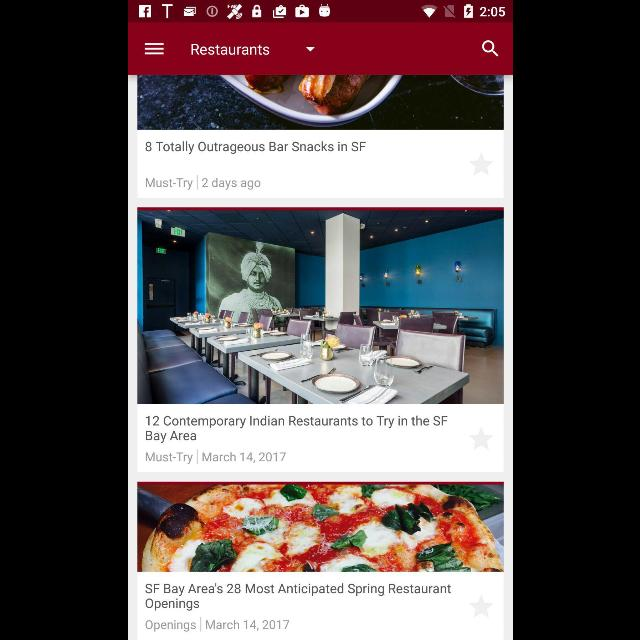icon: (468, 594, 492, 618), (469, 152, 493, 175), (468, 427, 492, 449), (480, 41, 498, 58), (144, 42, 164, 56), (306, 46, 314, 52)
image: (137, 208, 503, 404), (137, 482, 503, 572), (137, 76, 503, 130)
panel: (134, 205, 504, 475)
text: (145, 583, 451, 611), (145, 415, 447, 443), (145, 142, 365, 154), (201, 452, 285, 464), (191, 44, 269, 56), (205, 620, 289, 630), (202, 178, 260, 190), (144, 620, 196, 632), (146, 452, 192, 464), (146, 178, 192, 190)
toolbar: (128, 24, 512, 74)
uppertaskbar: (128, 1, 512, 23)
